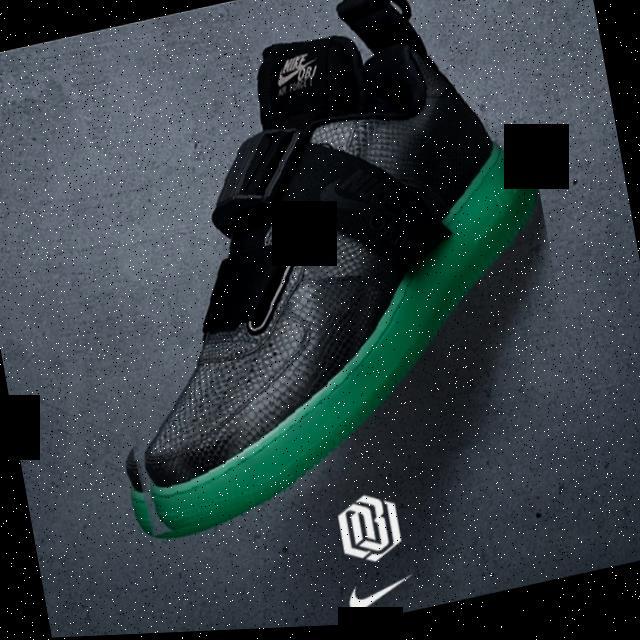shoe: (44, 0, 583, 544)
